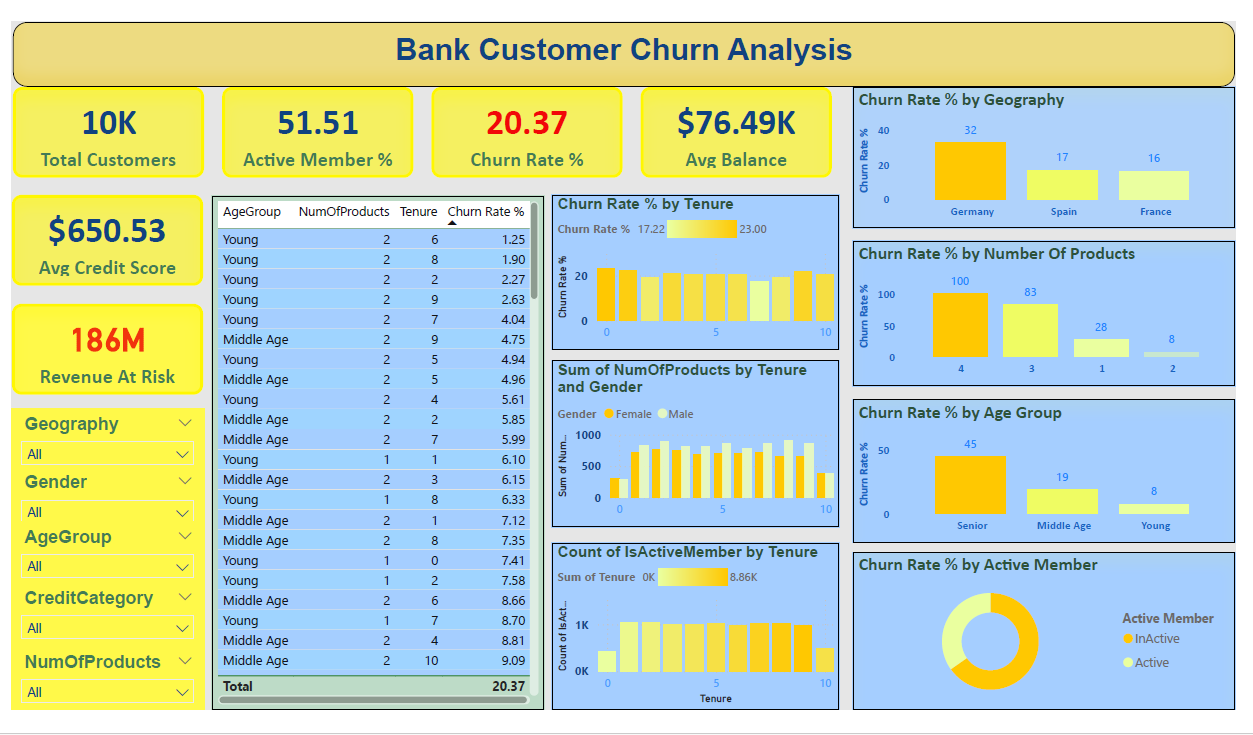

This screenshot's page, from the dashboard's own definition file:
{"tool":"powerbi","page":{"name":"Dashboard","canvas":[1280,720],"ordinal":0},"visuals":[{"type":"card","fields":{"Values":["Measures_Table.Total Customers"]},"box":[1.2,67.5,200,95],"z":0},{"type":"card","fields":{"Values":["Measures_Table.Churn Rate %"]},"box":[438.8,67.5,200,95],"z":1000},{"type":"card","fields":{"Values":["Measures_Table.Active Member %"]},"box":[220,67.5,200,95],"z":2000},{"type":"card","fields":{"Values":["Measures_Table.Avg Balance"]},"box":[657.5,67.5,200,95],"z":3000},{"type":"card","fields":{"Values":["Measures_Table.Avg Credit Score"]},"box":[0,181.2,200,95],"z":4000},{"type":"clusteredColumnChart","fields":{"Category":["bank_churn_stg.Geography"],"Y":["Measures_Table.Churn Rate %"]},"box":[880,67.5,400,148.8],"z":5000},{"type":"clusteredColumnChart","fields":{"Category":["bank_churn_stg.AgeGroup"],"Y":["Measures_Table.Churn Rate %"]},"box":[880,395,400,150],"z":6000},{"type":"clusteredColumnChart","fields":{"Category":["bank_churn_stg.NumOfProducts"],"Y":["Measures_Table.Churn Rate %"]},"box":[880,228.8,400,152.5],"z":7000},{"type":"donutChart","fields":{"Category":["bank_churn_stg.IsActiveMember"],"Y":["Measures_Table.Churn Rate %"]},"box":[880,555,400,165],"z":8000},{"type":"textbox","box":[1.2,0,1278.8,67.5],"z":9000},{"type":"card","fields":{"Values":["Measures_Table.Revenue At Risk"]},"box":[0,295,200,95],"z":11000},{"type":"slicer","fields":{"Values":["bank_churn_stg.Geography"]},"box":[0,405,201.2,61.2],"z":12000},{"type":"slicer","fields":{"Values":["bank_churn_stg.NumOfProducts"]},"box":[0,653.8,201.2,66.2],"z":13000},{"type":"slicer","fields":{"Values":["bank_churn_stg.Gender"]},"box":[0,465.9,201.2,57.5],"z":14000},{"type":"slicer","fields":{"Values":["bank_churn_stg.AgeGroup"]},"box":[0,523.1,201.2,63.8],"z":15000},{"type":"slicer","fields":{"Values":["bank_churn_stg.CreditCategory"]},"box":[0,586.6,201.2,67.5],"z":16000},{"type":"clusteredColumnChart","fields":{"Y":["Measures_Table.Churn Rate %"],"Category":["bank_churn_stg.Tenure"]},"box":[565,181.2,301.2,161.2],"z":17000},{"type":"clusteredColumnChart","fields":{"Category":["bank_churn_stg.Tenure"],"Y":["Sum(bank_churn_stg.NumOfProducts)"],"Series":["bank_churn_stg.Gender"]},"box":[565,353.8,301.2,175],"z":18000},{"type":"clusteredColumnChart","fields":{"Category":["bank_churn_stg.Tenure"],"Y":["CountNonNull(bank_churn_stg.IsActiveMember)"]},"box":[565,545,301.2,175],"z":19000},{"type":"tableEx","fields":{"Values":["bank_churn_stg.AgeGroup","bank_churn_stg.NumOfProducts","bank_churn_stg.Tenure","Measures_Table.Churn Rate %"]},"box":[209.4,181.6,347.4,538.7],"z":20000}]}

Visuals, with their boxes on the page's 1280x720 design canvas (x1, y1, x2, y2). These are canvas units, not pixel positions in the 1253x735 screenshot, which may show the page scaled, cropped or inside an application window:
card - Measures_Table.Total Customers: [1,68,201,162]
card - Measures_Table.Churn Rate %: [439,68,639,162]
card - Measures_Table.Active Member %: [220,68,420,162]
card - Measures_Table.Avg Balance: [658,68,858,162]
card - Measures_Table.Avg Credit Score: [0,181,200,276]
clusteredColumnChart - bank_churn_stg.Geography x Measures_Table.Churn Rate %: [880,68,1280,216]
clusteredColumnChart - bank_churn_stg.AgeGroup x Measures_Table.Churn Rate %: [880,395,1280,545]
clusteredColumnChart - bank_churn_stg.NumOfProducts x Measures_Table.Churn Rate %: [880,229,1280,381]
donutChart - bank_churn_stg.IsActiveMember x Measures_Table.Churn Rate %: [880,555,1280,720]
textbox: [1,0,1280,68]
card - Measures_Table.Revenue At Risk: [0,295,200,390]
slicer - bank_churn_stg.Geography: [0,405,201,466]
slicer - bank_churn_stg.NumOfProducts: [0,654,201,720]
slicer - bank_churn_stg.Gender: [0,466,201,523]
slicer - bank_churn_stg.AgeGroup: [0,523,201,587]
slicer - bank_churn_stg.CreditCategory: [0,587,201,654]
clusteredColumnChart - Measures_Table.Churn Rate % x bank_churn_stg.Tenure: [565,181,866,342]
clusteredColumnChart - bank_churn_stg.Tenure x Sum(bank_churn_stg.NumOfProducts): [565,354,866,529]
clusteredColumnChart - bank_churn_stg.Tenure x CountNonNull(bank_churn_stg.IsActiveMember): [565,545,866,720]
tableEx - bank_churn_stg.AgeGroup x bank_churn_stg.NumOfProducts: [209,182,557,720]
